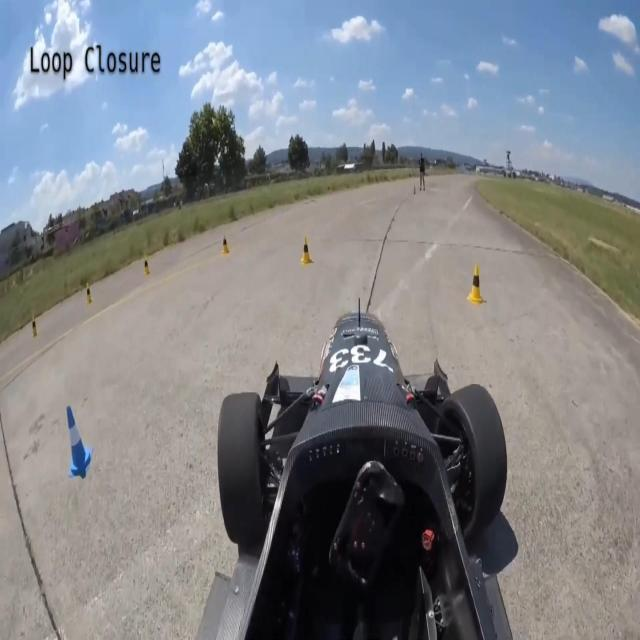blue_cone: (66, 405, 93, 477)
yellow_cone: (468, 262, 486, 306), (300, 236, 312, 266), (221, 234, 230, 257)
